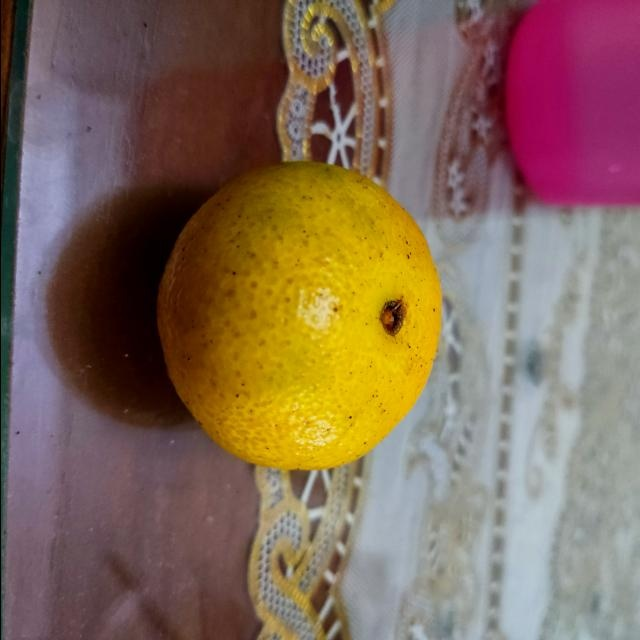agrume: (155, 164, 443, 472)
